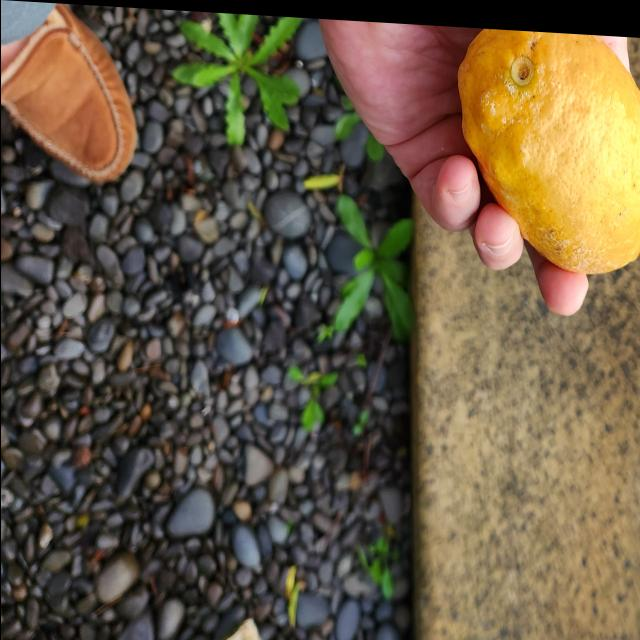lemon: (461, 22, 640, 270)
